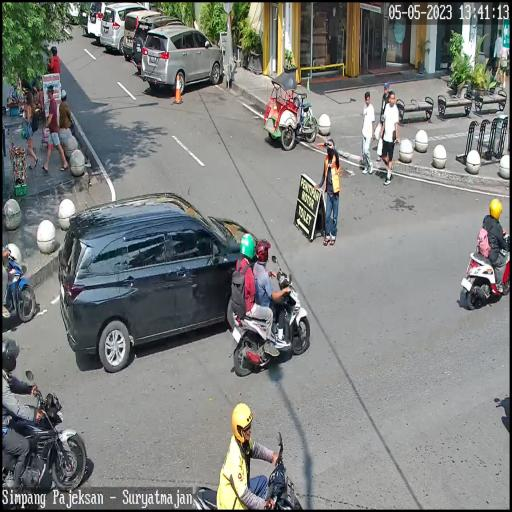mobil: (58, 199, 267, 370), (144, 26, 224, 96)
motor: (2, 372, 89, 492), (228, 259, 309, 377), (460, 227, 512, 311)
